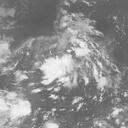cyclone: (39, 50, 79, 84)
